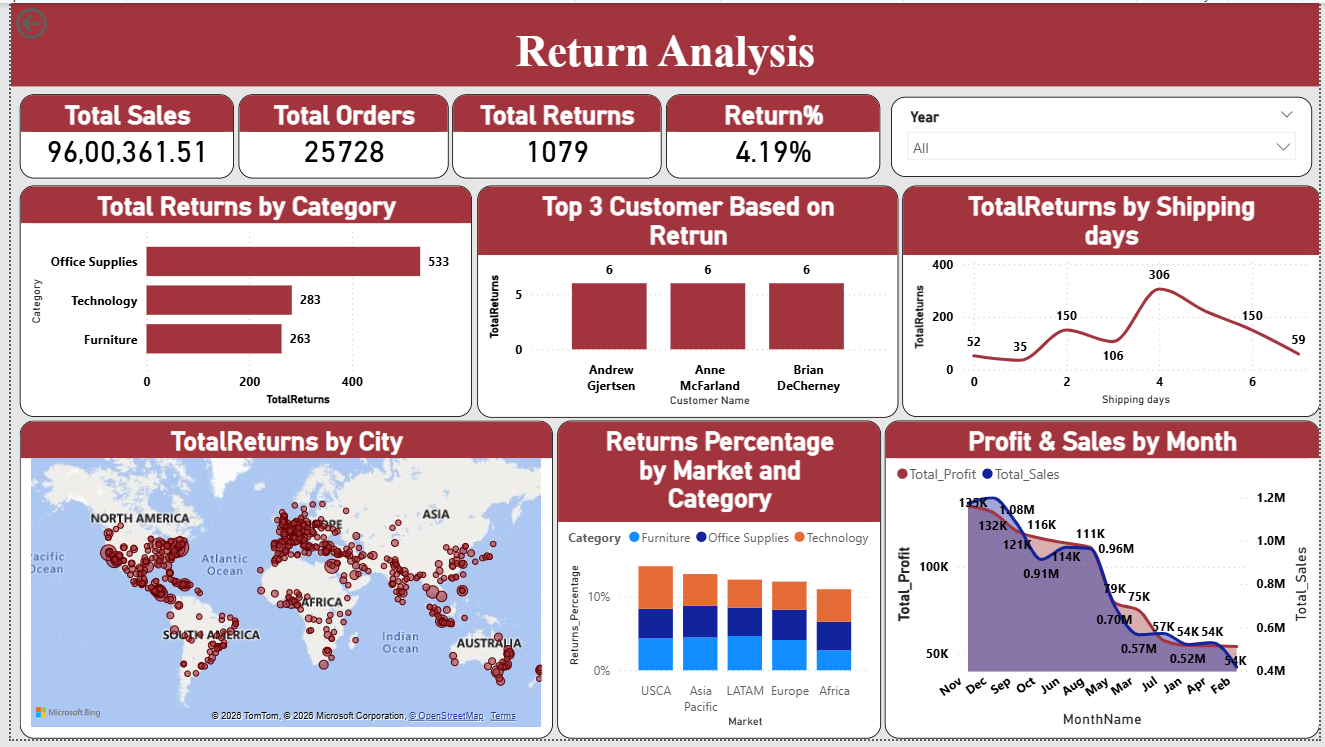

Layout of this report page (visuals, bound fields, positions):
{"tool":"powerbi","page":{"name":"Main Page","canvas":[1280,720],"ordinal":0},"visuals":[{"type":"textbox","box":[0,0,1280.3,81.9],"z":0},{"type":"card","title":"Total Sales","fields":{"Values":["Orders.Total_Sales"]},"box":[8.2,88.9,209.9,82.3],"z":1000},{"type":"card","title":"Total Orders","fields":{"Values":["Orders.Totalorders"]},"box":[222.2,88.9,205.8,82.3],"z":2000},{"type":"card","title":"Return%","fields":{"Values":["Orders.Returns_Percentage"]},"box":[640.8,88.9,209.9,82.3],"z":3000},{"type":"card","title":"Total Returns","fields":{"Values":["Orders.TotalReturns"]},"box":[432.2,88.9,204.5,82.3],"z":4000},{"type":"barChart","title":"Total Returns by Category","fields":{"Category":["Products.Category"],"Y":["Orders.TotalReturns"]},"box":[8.6,178.5,442.7,226.2],"z":5000},{"type":"map","fields":{"Category":["Orders.City"],"Size":["Orders.TotalReturns"]},"box":[8.2,408.9,521.4,311.5],"z":6000},{"type":"actionButton","box":[0,0,100,40],"z":7000},{"type":"slicer","fields":{"Values":["Orders.Ship Date.Variation.Date Hierarchy.Year"]},"box":[860.9,91.7,412.1,78.3],"z":8000},{"type":"columnChart","title":"Top 3 Customer Based on Retrun","fields":{"Category":["Orders.Customer Name"],"Y":["Orders.TotalReturns"]},"box":[456.1,178.5,412.1,227.4],"z":9000},{"type":"lineChart","fields":{"Category":["Orders.Shipping days"],"Y":["Orders.TotalReturns"]},"box":[871.9,178.5,408.4,226.2],"z":10000},{"type":"areaChart","title":"Profit & Sales by Month","fields":{"Y":["Orders.Total_Profit"],"Y2":["Orders.Total_Sales"],"Category":["Date_Table.MonthName"]},"box":[854.6,408.5,425.4,311.5],"z":11000},{"type":"columnChart","title":"Returns Percentage by Market and Category","fields":{"Category":["Orders.Market"],"Y":["Orders.Returns_Percentage"],"Series":["Products.Category"]},"box":[533.8,408.9,317,311.5],"z":12000}]}

Visuals, with their boxes in screenshot pixels (x1, y1, x2, y2), scaled from the page's 1280x720 canvas onto the 1325x747 screenshot:
textbox: x1=0, y1=0, x2=1324, y2=85
"Total Sales" card: x1=8, y1=92, x2=226, y2=178
"Total Orders" card: x1=230, y1=92, x2=443, y2=178
"Return%" card: x1=663, y1=92, x2=881, y2=178
"Total Returns" card: x1=447, y1=92, x2=659, y2=178
"Total Returns by Category" barChart: x1=9, y1=185, x2=467, y2=420
map - Orders.City x Orders.TotalReturns: x1=8, y1=424, x2=548, y2=746
actionButton: x1=0, y1=0, x2=104, y2=42
slicer - Orders.Ship Date.Variation.Date Hierarchy.Year: x1=891, y1=95, x2=1318, y2=176
"Top 3 Customer Based on Retrun" columnChart: x1=472, y1=185, x2=899, y2=421
lineChart - Orders.Shipping days x Orders.TotalReturns: x1=903, y1=185, x2=1324, y2=420
"Profit & Sales by Month" areaChart: x1=885, y1=424, x2=1324, y2=746
"Returns Percentage by Market and Category" columnChart: x1=553, y1=424, x2=881, y2=746
